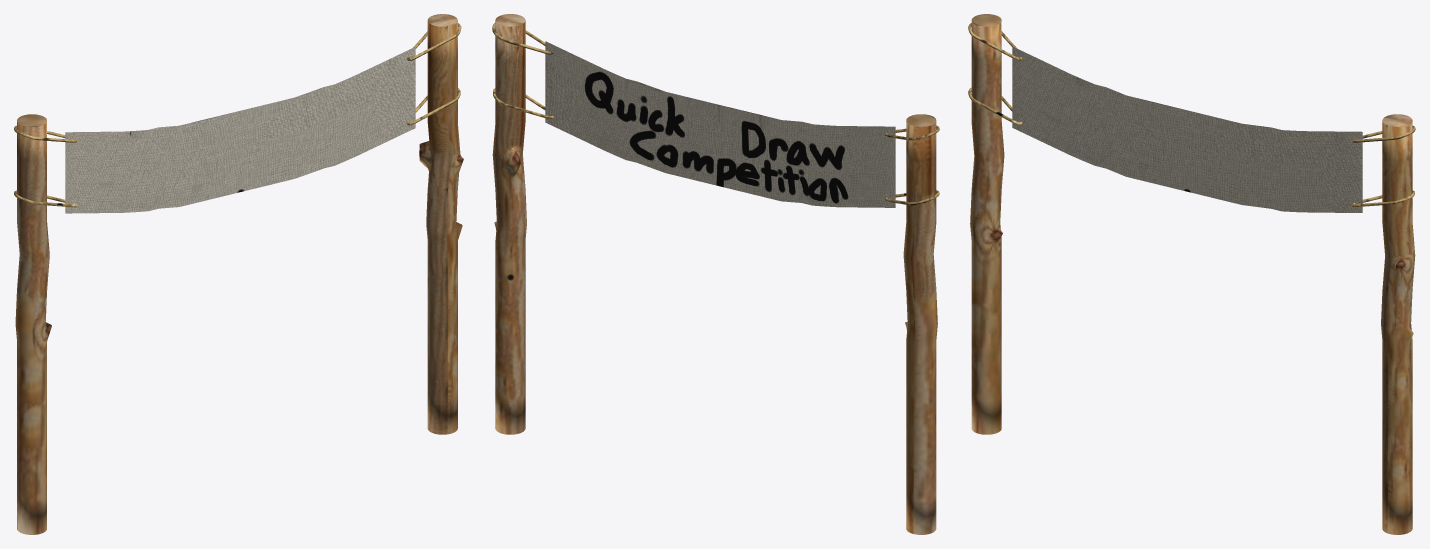
The model's file is Banner_Quick_Draw.fbx.
3 renders of one model, left to right at view 1: azimuth 30°, elevation 25°; view 2: azimuth 150°, elevation 25°; view 3: azimuth 330°, elevation 25°, orthographic.
Visible parts, largest first — view 1: Cylinder; view 2: Cylinder; view 3: Cylinder.
Part boxes in pixels (left/top/right/bottom): Cylinder: left=14, top=14, right=463, bottom=534; Cylinder: left=492, top=14, right=939, bottom=534; Cylinder: left=968, top=14, right=1415, bottom=534.
Size of the model in its own units: 679 by 596 by 56.05.
Materials: 1 (1 with a texture image).
